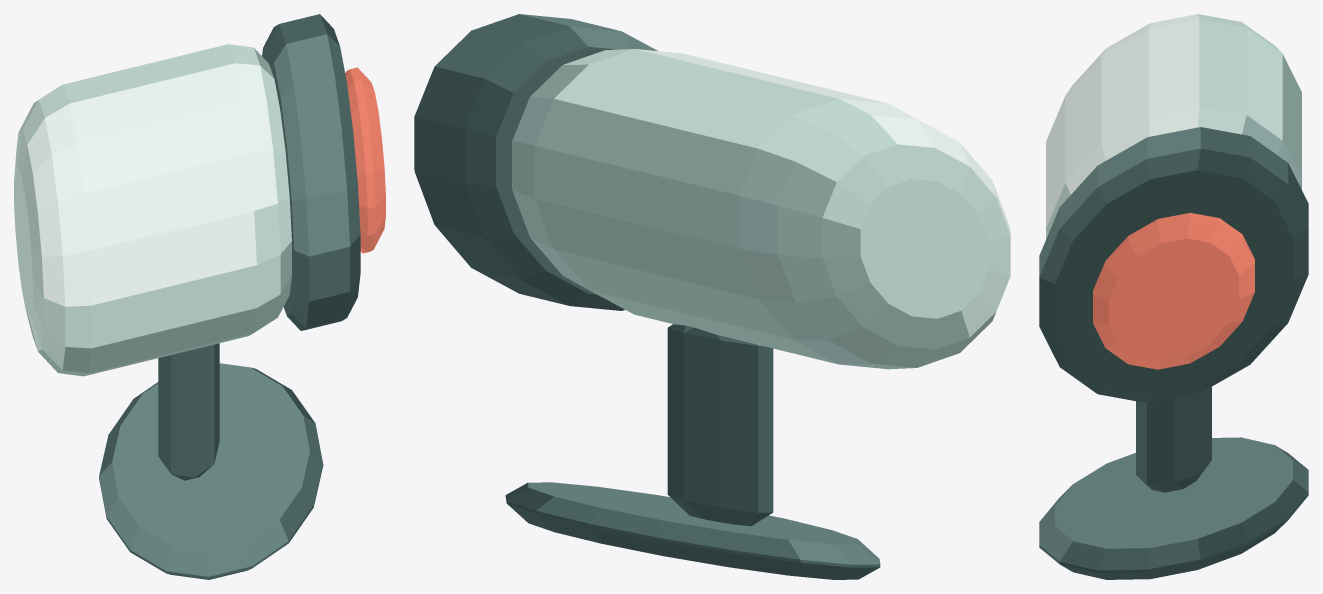
File: Laser_Right.gltf
3 renders of one model, left to right at view 1: azimuth 30°, elevation 25°; view 2: azimuth 150°, elevation 25°; view 3: azimuth 270°, elevation 25°, orthographic. The views are drawn at different scales.
Visible parts, largest first — view 1: Laser_Right_baked; view 2: Laser_Right_baked; view 3: Laser_Right_baked.
Boxes of the visible parts, x1,y1,x2,y2 form: Laser_Right_baked: (14, 14, 385, 579); Laser_Right_baked: (414, 14, 1010, 579); Laser_Right_baked: (1039, 14, 1308, 579).
Size of the model in its own units: 0.7224 by 0.781 by 0.3923.
